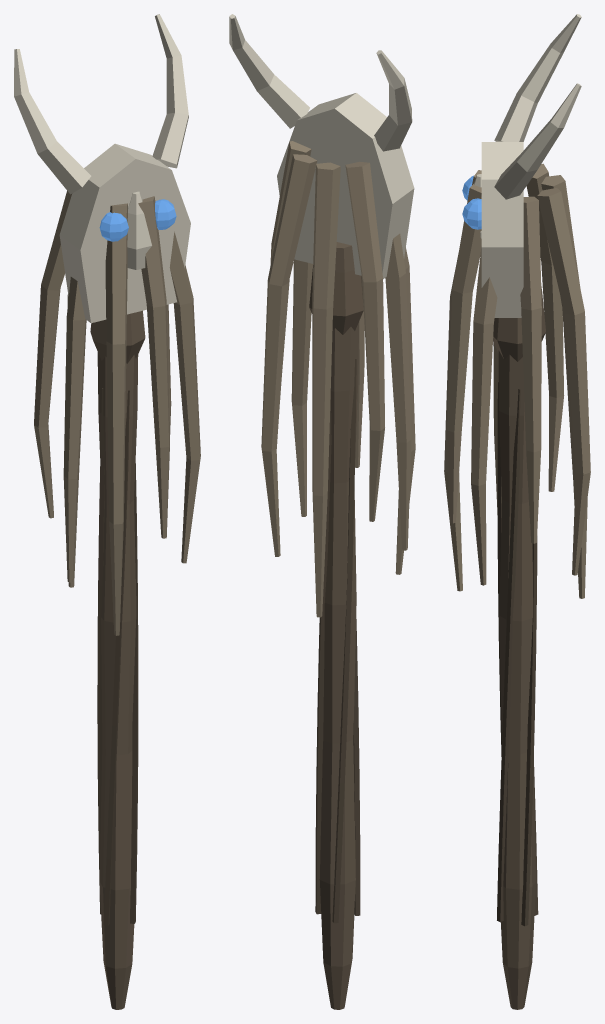
The model's file is staff_idol.glb.
3 renders of one model, left to right at view 1: azimuth 30°, elevation 25°; view 2: azimuth 150°, elevation 25°; view 3: azimuth 270°, elevation 25°, orthographic. The views are drawn at different scales.
Visible parts, largest first — view 1: Id_Shaft, Id_Face, Id_Hair5, Id_Hair6, Id_Hair7, Id_Hair3, Id_Hair4, Id_Horn0, Id_Horn1, Id_Ridge2, Id_Ridge1, Id_Ridge3 (+4 smaller); view 2: Id_Shaft, Id_Face, Id_Hair2, Id_Hair1, Id_Hair3, Id_Hair4, Id_Hair7, Id_Ridge1, Id_Horn1, Id_Ridge0, Id_Neck, Id_Horn0 (+4 smaller); view 3: Id_Shaft, Id_Hair1, Id_Face, Id_Hair0, Id_Hair6, Id_Hair7, Id_Hair3, Id_Ridge3, Id_Horn0, Id_Ridge0, Id_Horn1, Id_Hair2 (+5 smaller).
Boxes of the visible parts, x1,y1,x2,y2 form: Id_Shaft: (97,352,138,1009); Id_Face: (59,143,190,323); Id_Hair5: (105,203,127,635); Id_Hair6: (138,196,169,538); Id_Hair7: (169,231,200,563); Id_Hair3: (34,191,72,518); Id_Hair4: (63,277,86,582); Id_Horn0: (14,49,91,194); Id_Horn1: (152,14,188,168); Id_Ridge2: (103,390,129,925); Id_Ridge1: (97,388,104,914); Id_Ridge3: (130,463,138,923); Id_Shaft: (319,321,359,1009); Id_Face: (277,93,414,279); Id_Hair2: (312,162,340,617); Id_Hair1: (261,154,317,556); Id_Hair3: (345,161,384,521); Id_Hair4: (385,233,411,550); Id_Hair7: (291,259,313,516); Id_Ridge1: (332,358,356,923); Id_Horn1: (229,14,309,128); Id_Ridge0: (315,400,331,914); Id_Neck: (309,242,363,334); Id_Horn0: (374,50,412,151); Id_Shaft: (498,350,535,1009); Id_Hair1: (537,188,590,575); Id_Face: (481,142,523,317); Id_Hair0: (520,196,541,543); Id_Hair6: (447,183,481,523); Id_Hair7: (471,246,497,585); Id_Hair3: (526,163,564,491); Id_Ridge3: (497,389,520,922); Id_Horn0: (494,14,581,141); Id_Ridge0: (521,536,537,926); Id_Horn1: (494,83,581,199); Id_Hair2: (541,175,587,598).
Bounding box in the file's own units: 0.3933 × 2.14 × 0.2975.
